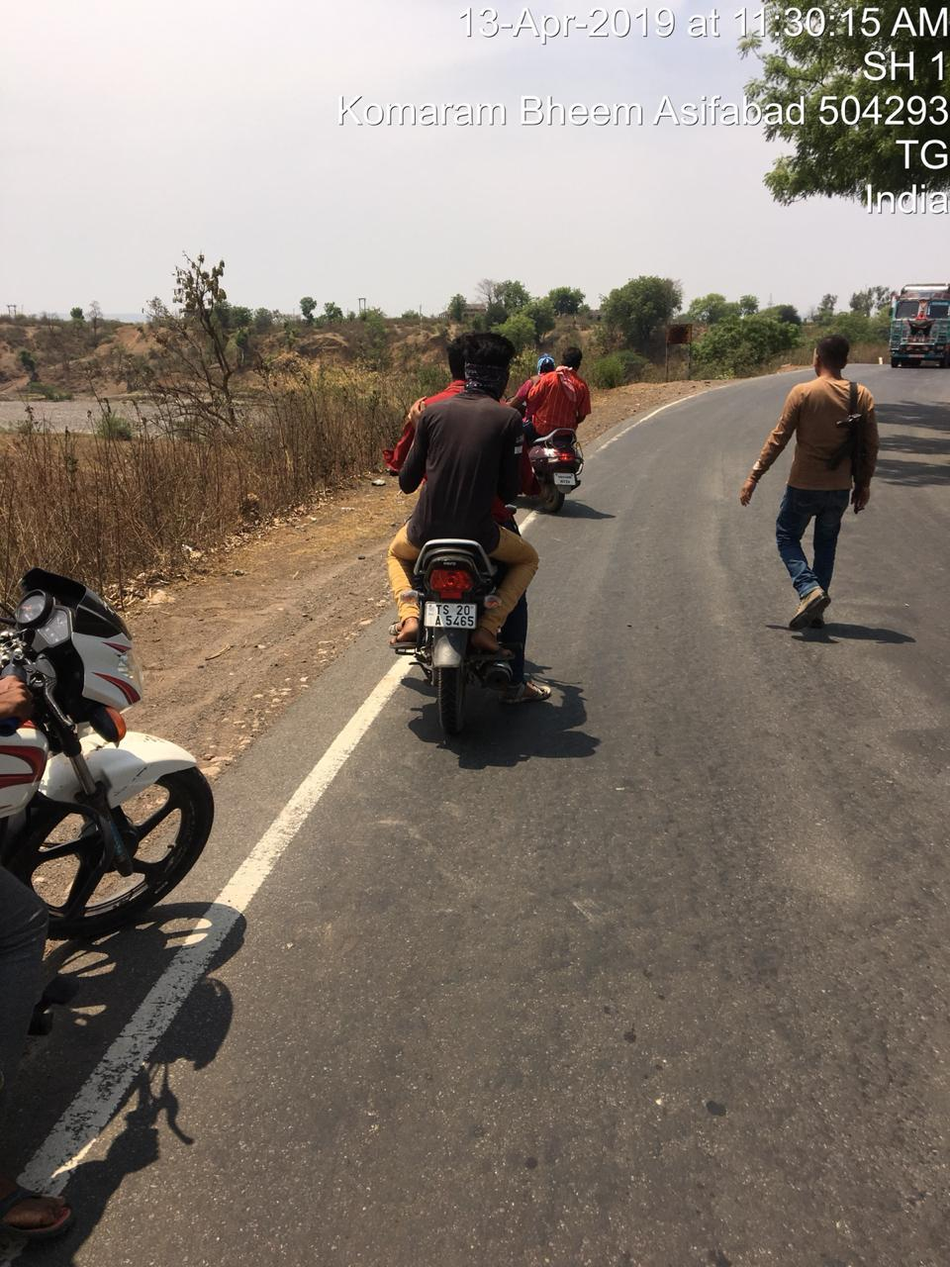plate: (411, 586, 487, 638), (547, 468, 584, 488)
